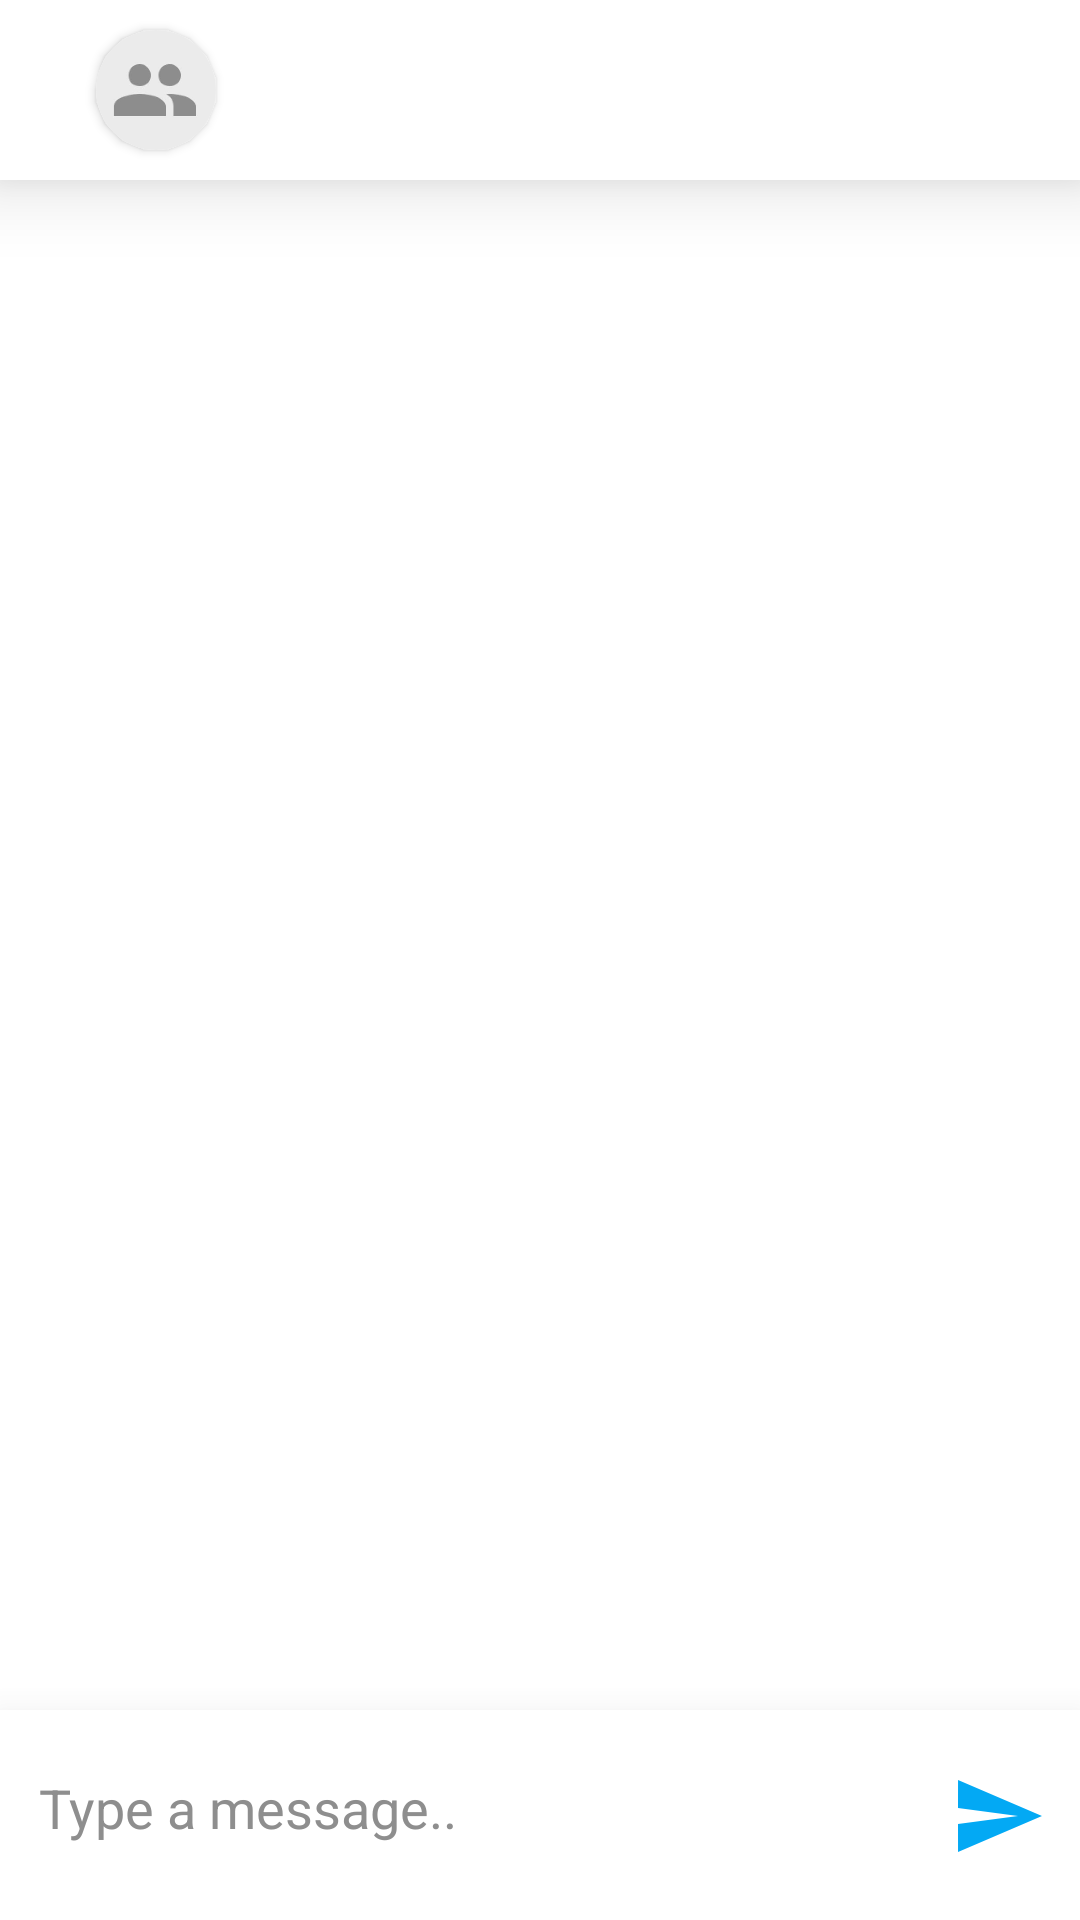

Named icons in this screenshot (1080×1920) and their bounding boxes, (x1, y1, x2, y2):
no group: (96, 30, 216, 150)
send message: (958, 1780, 1042, 1852)
